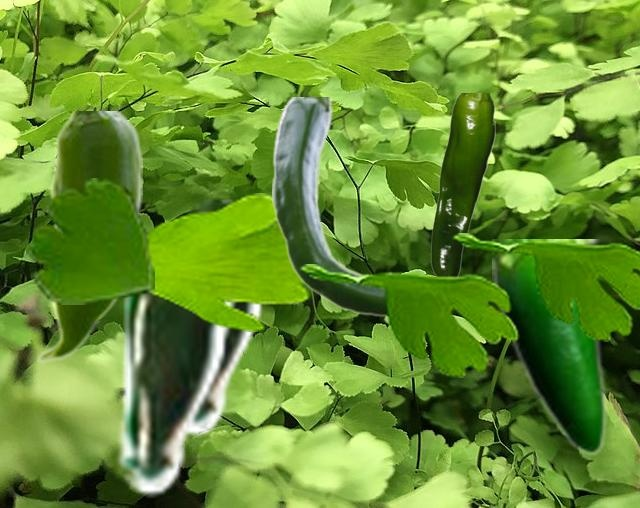green_chili: (110, 219, 242, 496), (35, 111, 141, 363), (272, 97, 385, 319), (492, 239, 606, 455), (173, 195, 270, 436), (430, 93, 494, 274)
